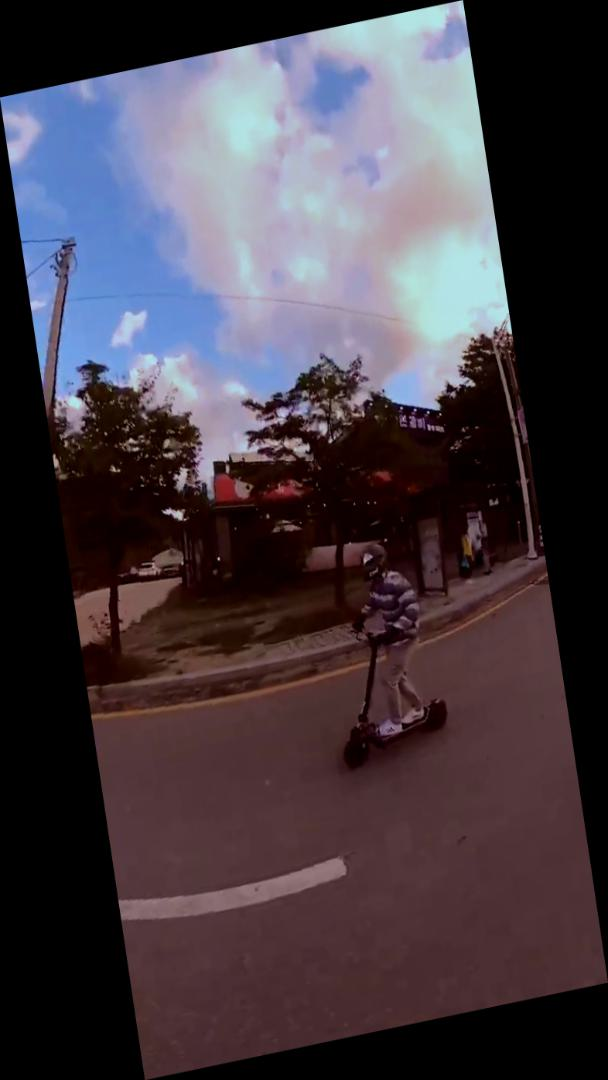helmet: (310, 530, 456, 771)
